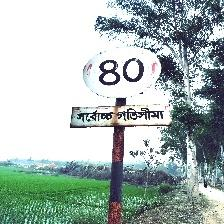Speed-limit: (73, 45, 171, 128)
